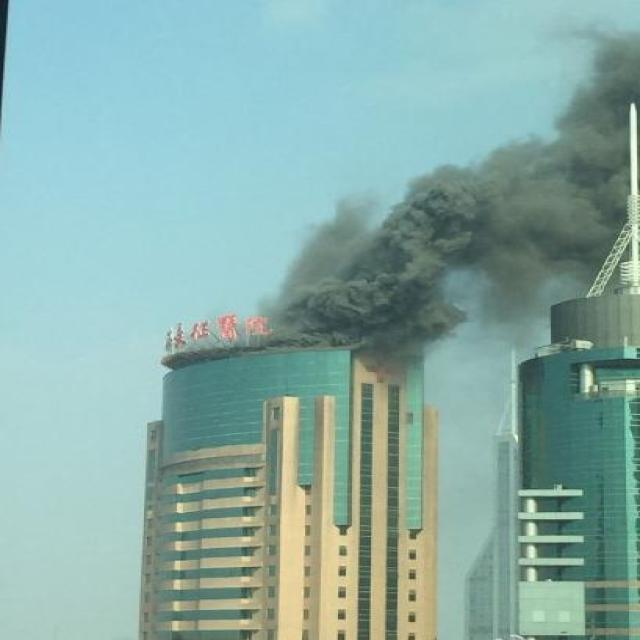Smoke: (271, 28, 640, 346)
